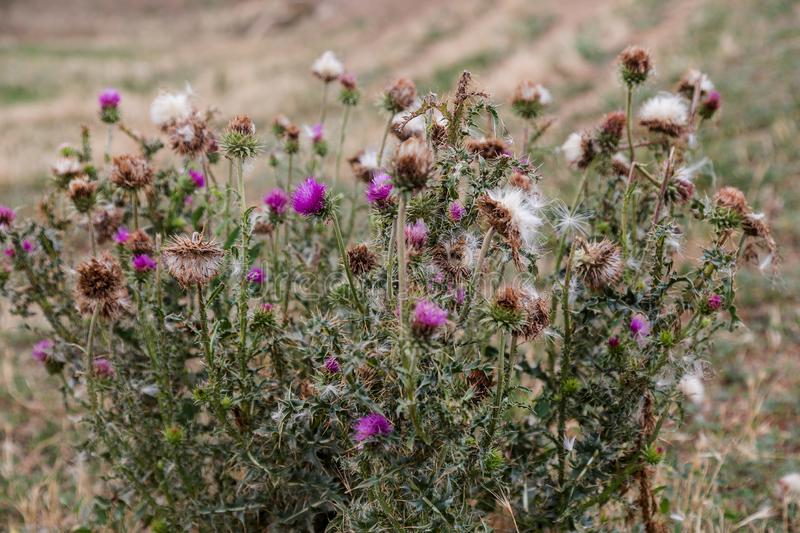thistle: (287, 179, 337, 223), (349, 416, 392, 454), (367, 179, 400, 226), (92, 86, 124, 128), (413, 303, 443, 340)
